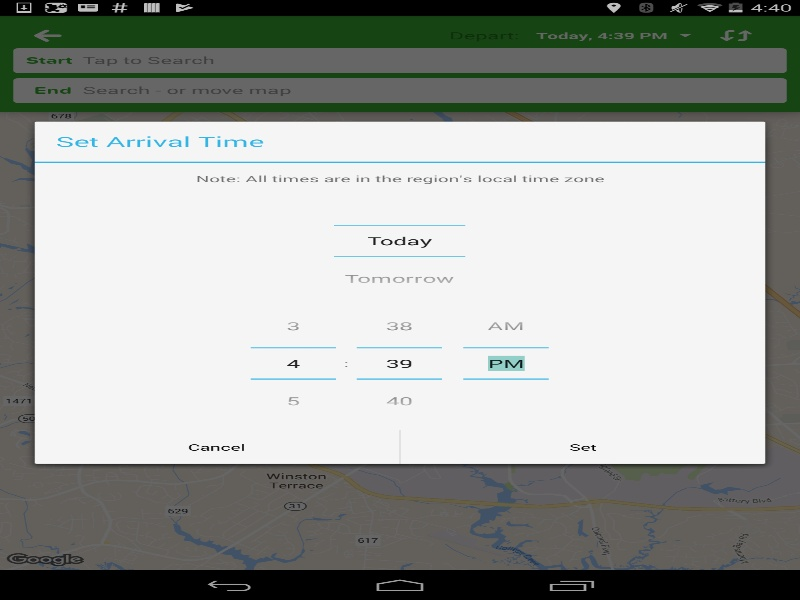Button: (34, 430, 399, 464), (400, 430, 765, 464), (334, 255, 465, 297), (250, 307, 336, 348), (250, 378, 336, 419), (356, 307, 442, 348), (356, 378, 442, 419), (463, 307, 548, 348)
Input: (334, 225, 465, 255), (250, 348, 336, 378), (356, 348, 442, 378), (463, 348, 548, 378)
